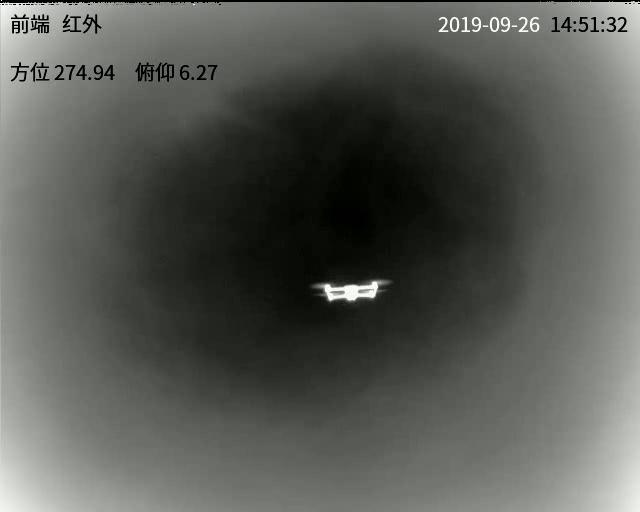DRONE: (315, 278, 384, 302)
